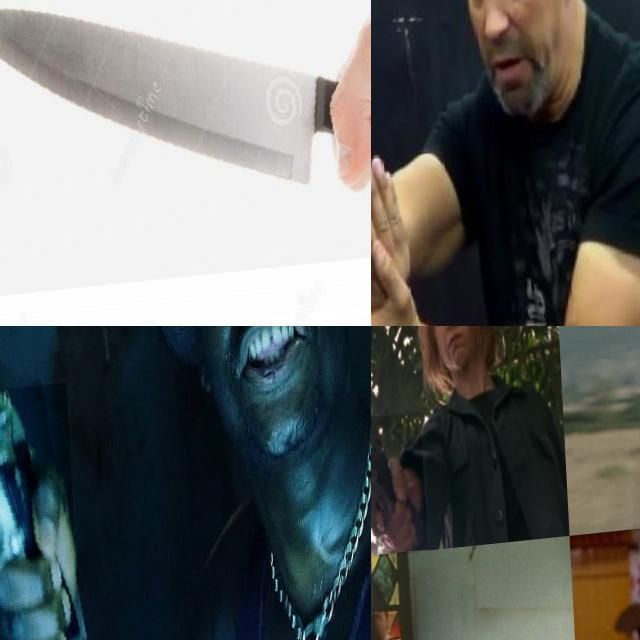-: (0, 0, 371, 300), (371, 71, 422, 326)
gun-knife-thesis - v11 Yolov5 augmented: (0, 387, 114, 640), (371, 415, 425, 564)
